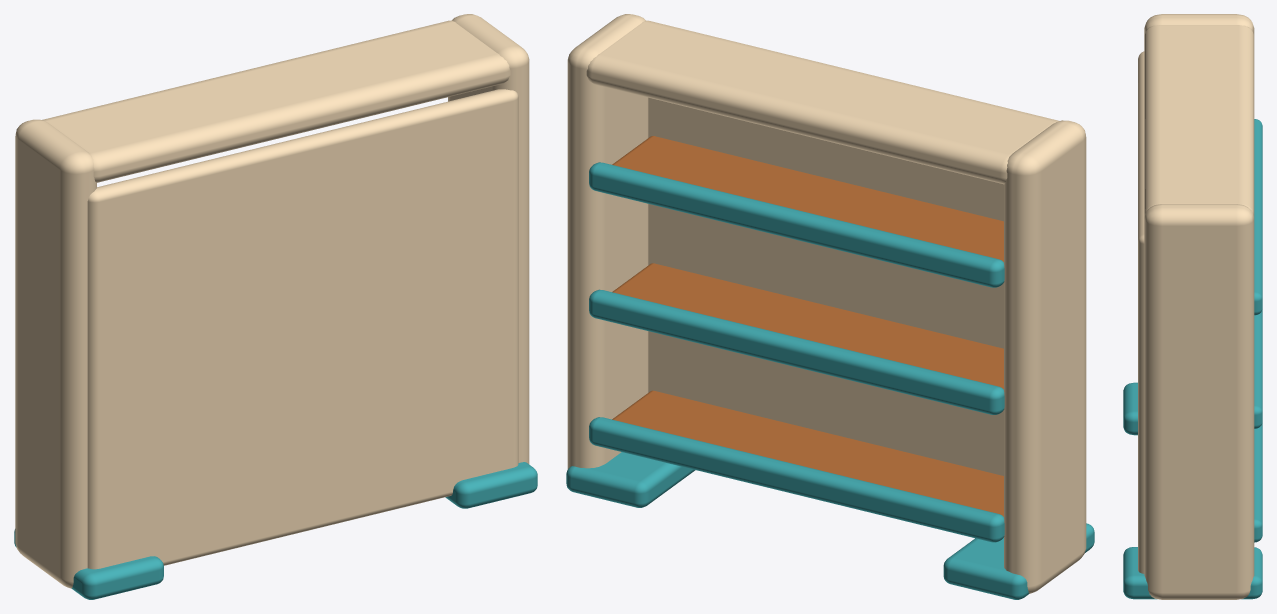
File: ShelfEmpty.glb
The picture shows the model from 3 angles, left to right: view 1: azimuth 30°, elevation 25°; view 2: azimuth 150°, elevation 25°; view 3: azimuth 270°, elevation 25°; orthographic projection. The views are drawn at different scales.
Visible parts, largest first — view 1: BackPanel, LeftUpright, TopCrossbar, RightUpright, LeftFoot, RightFoot; view 2: BackPanel, LeftUpright, TopCrossbar, RightUpright, ShelfDeck_2, ShelfDeck_1, ShelfDeck_3, TealFrontRail_1, TealFrontRail_3, TealFrontRail_2, RightFoot, LeftFoot; view 3: RightUpright, TopCrossbar, BackPanel, TealFrontRail_3, RightFoot, LeftUpright, TealFrontRail_2, TealFrontRail_1, LeftFoot.
Boxes of the visible parts, box(x1,y1,x2,y2) form: BackPanel: box(87, 89, 518, 569); LeftUpright: box(15, 119, 96, 588); TopCrossbar: box(42, 20, 510, 182); RightUpright: box(448, 14, 529, 463); LeftFoot: box(14, 529, 163, 599); RightFoot: box(445, 462, 537, 508); BackPanel: box(648, 97, 1003, 475); LeftUpright: box(1004, 120, 1086, 593); TopCrossbar: box(586, 20, 1059, 184); RightUpright: box(567, 14, 648, 469); ShelfDeck_2: box(612, 263, 1003, 389); ShelfDeck_1: box(612, 390, 1003, 516); ShelfDeck_3: box(612, 136, 1003, 261); TealFrontRail_1: box(589, 417, 1004, 542); TealFrontRail_3: box(589, 162, 1004, 287); TealFrontRail_2: box(589, 289, 1004, 414); RightFoot: box(566, 452, 695, 507); LeftFoot: box(943, 523, 1094, 599); RightUpright: box(1144, 204, 1254, 599); TopCrossbar: box(1144, 25, 1254, 216); BackPanel: box(1138, 51, 1144, 573); TealFrontRail_3: box(1254, 119, 1262, 315); RightFoot: box(1123, 547, 1262, 599); LeftUpright: box(1144, 14, 1254, 35); TealFrontRail_2: box(1254, 309, 1262, 428); TealFrontRail_1: box(1254, 423, 1262, 542); LeftFoot: box(1123, 382, 1137, 435).
Bounding box in the file's own units: 2.29 × 2.04 × 0.66.
